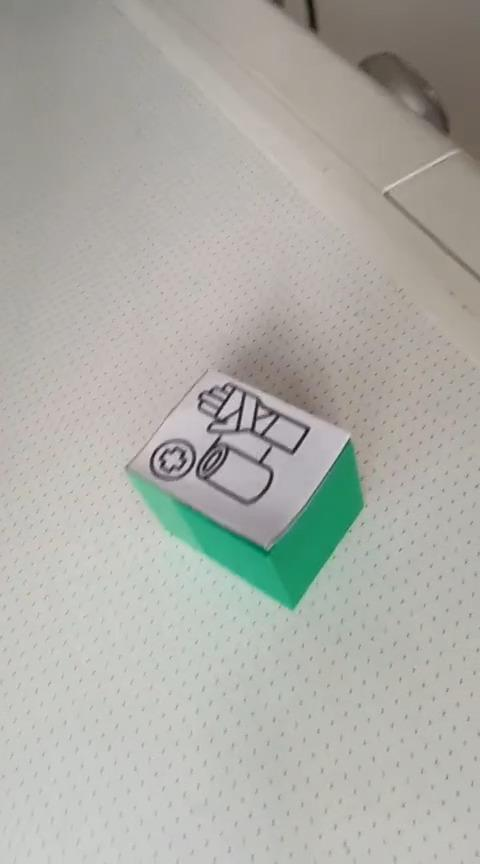Bandages: (127, 367, 364, 610)
